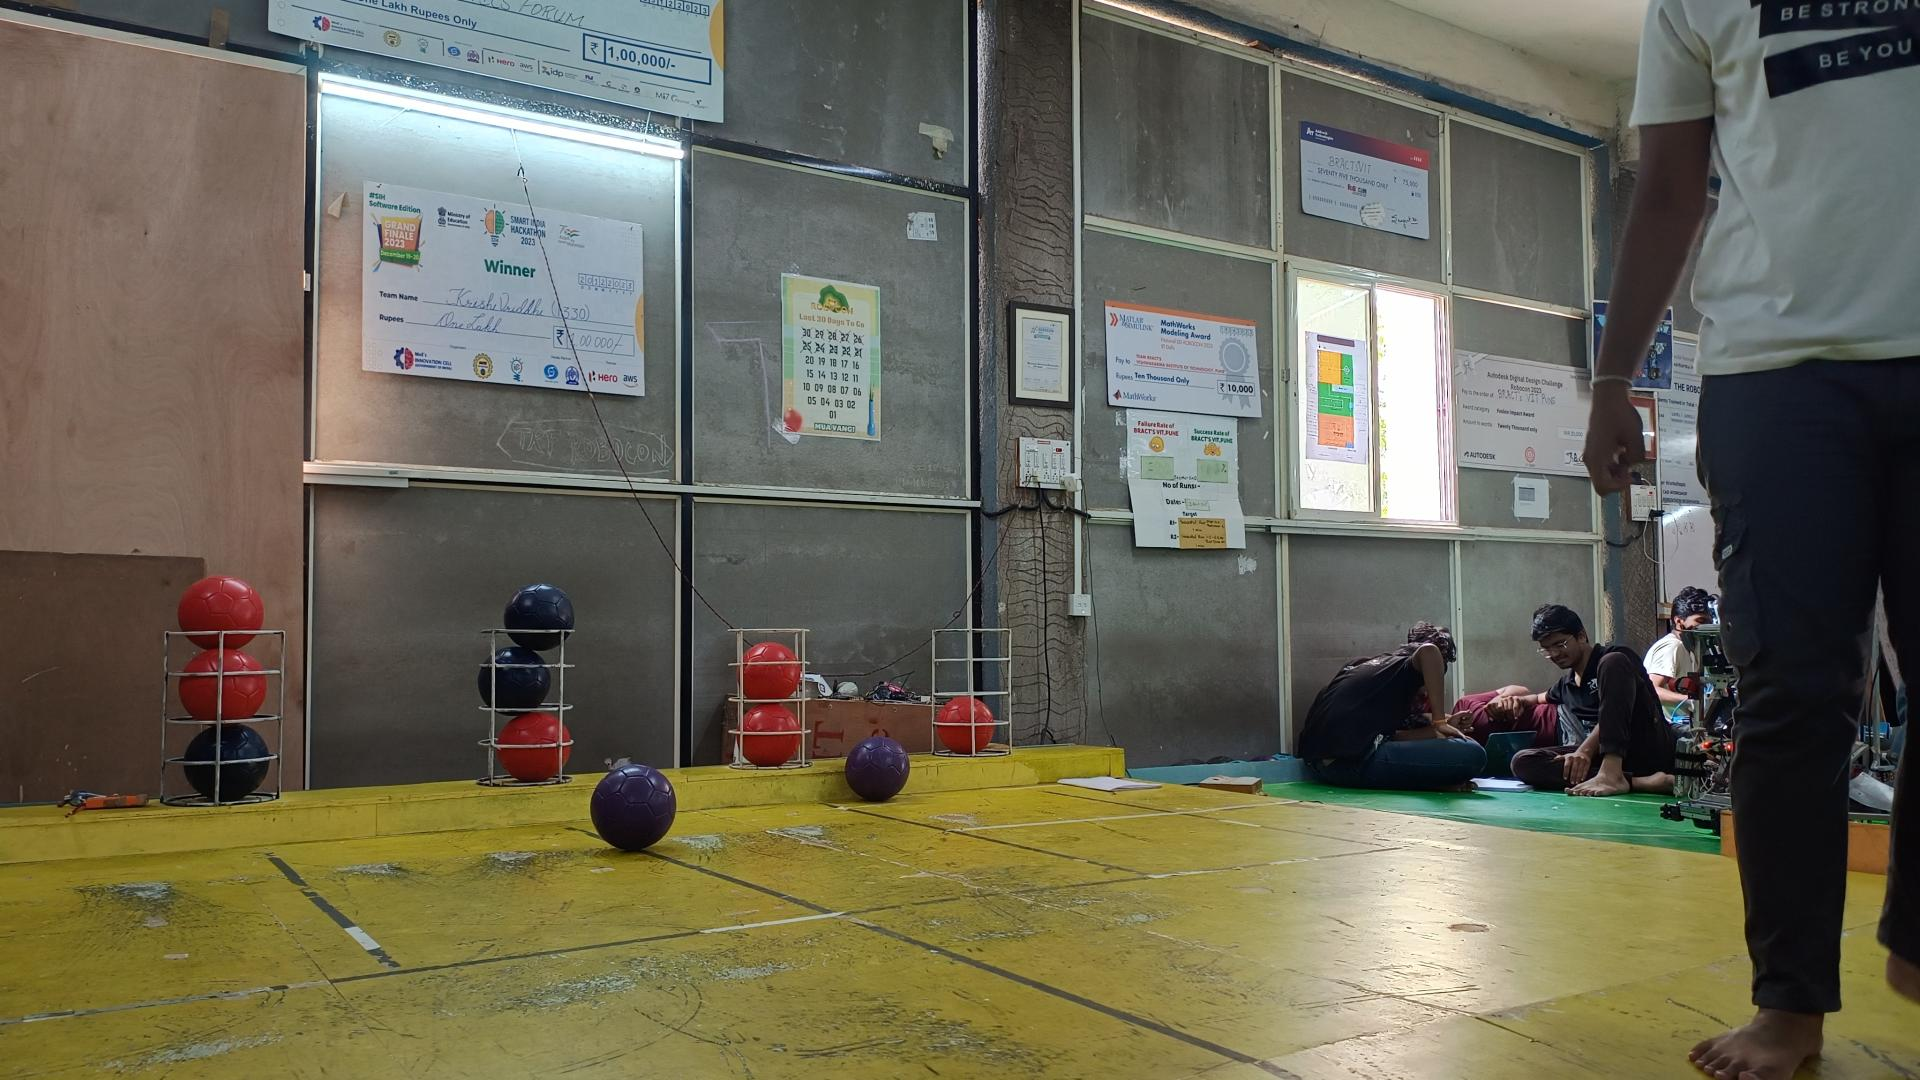dhoka: (183, 724, 270, 803), (502, 585, 574, 653), (476, 645, 551, 708)
laale: (177, 649, 266, 720), (177, 578, 262, 649), (498, 712, 570, 783), (934, 694, 994, 754), (742, 705, 803, 765), (742, 641, 803, 698)
